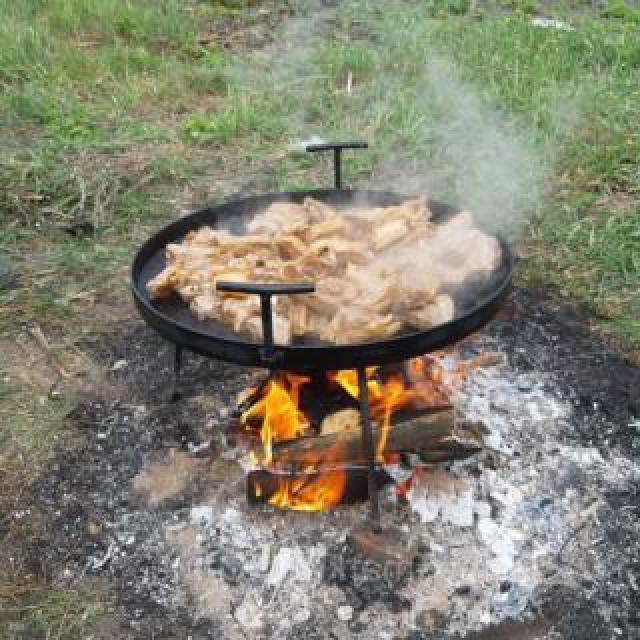Fire: (244, 362, 418, 516)
Smoke: (362, 58, 600, 302)
